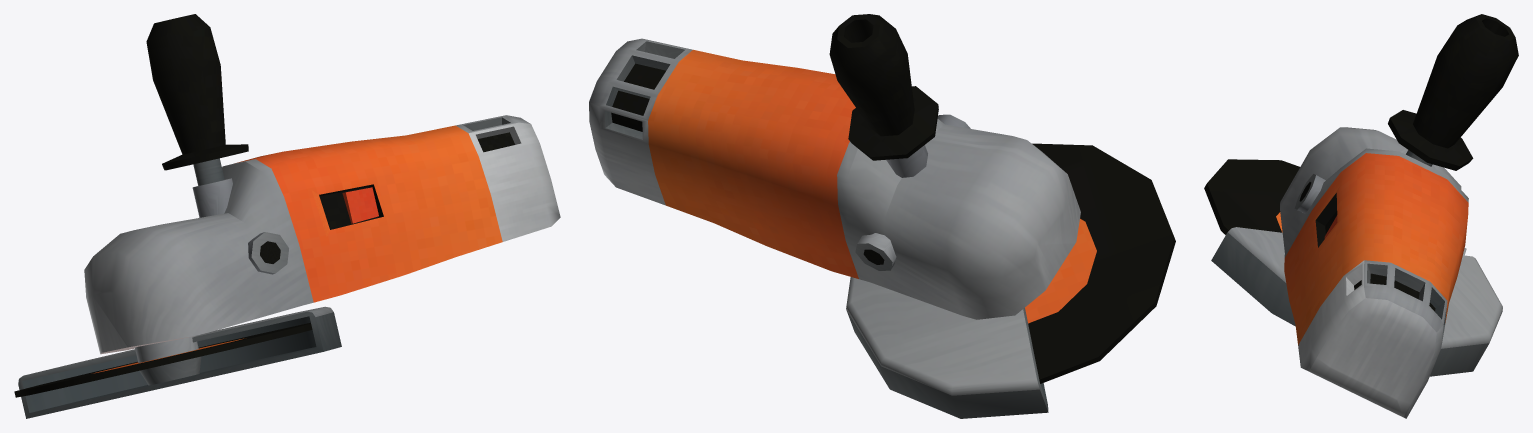
The model's file is anglegrinder.fbx.
The picture shows the model from 3 angles, left to right: view 1: azimuth 30°, elevation 25°; view 2: azimuth 150°, elevation 25°; view 3: azimuth 270°, elevation 25°; orthographic projection. The views are drawn at different scales.
Parts seen in each view (by area): view 1: angle_grinder; view 2: angle_grinder; view 3: angle_grinder.
Boxes of the visible parts, x1,y1,x2,y2 form: angle_grinder: [14, 14, 560, 418]; angle_grinder: [589, 14, 1175, 418]; angle_grinder: [1204, 14, 1518, 418].
Size of the model in its own units: 47.6 by 32.42 by 25.1.
